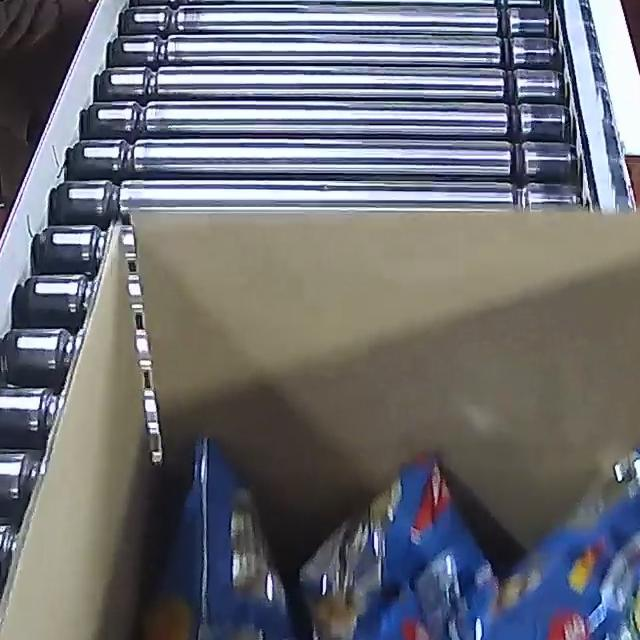paprika: (126, 420, 640, 640)
